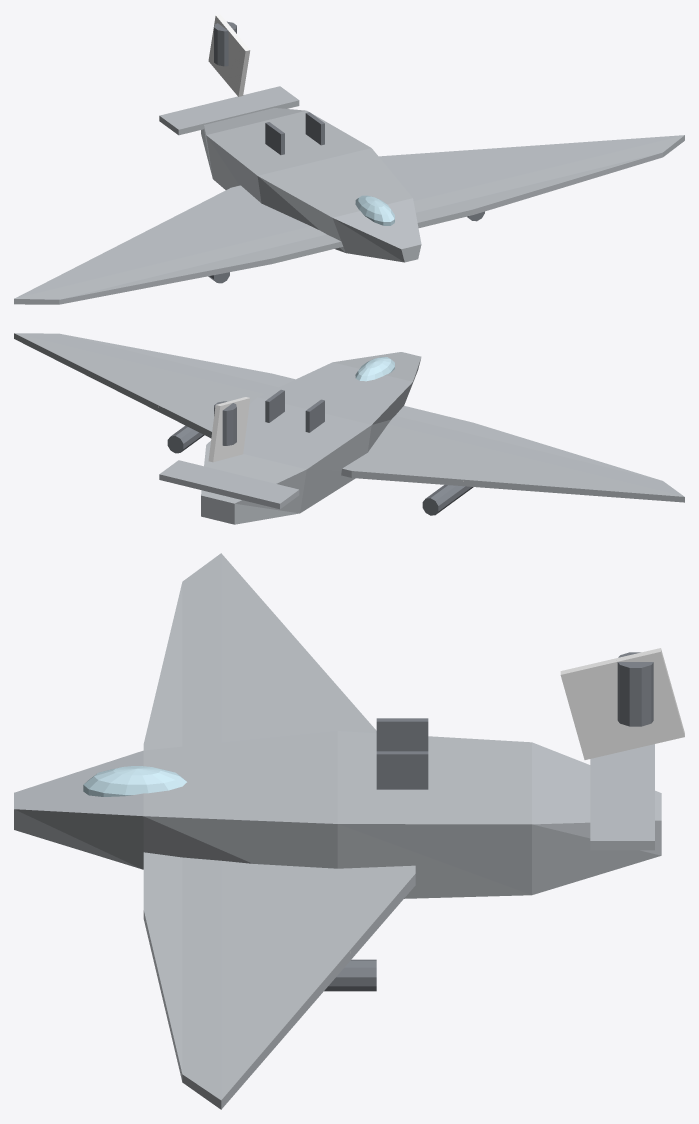
File: ewplane.glb
3 renders of one model, top to bottom at view 1: azimuth 30°, elevation 25°; view 2: azimuth 150°, elevation 25°; view 3: azimuth 270°, elevation 25°, orthographic. The views are drawn at different scales.
Visible parts, largest first — view 1: main; view 2: main; view 3: main.
Part boxes in pixels (<box>): main: <box>14,14,684,304</box>; main: <box>14,333,684,524</box>; main: <box>14,553,684,1109</box>.
Size of the model in its own units: 2 by 0.4025 by 1.04.
